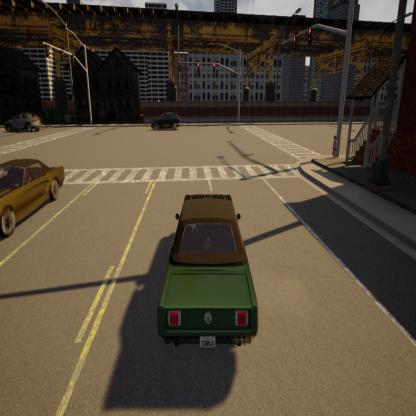Cars: (160, 177, 266, 388), (1, 110, 72, 278), (0, 84, 46, 146), (136, 99, 188, 144)
